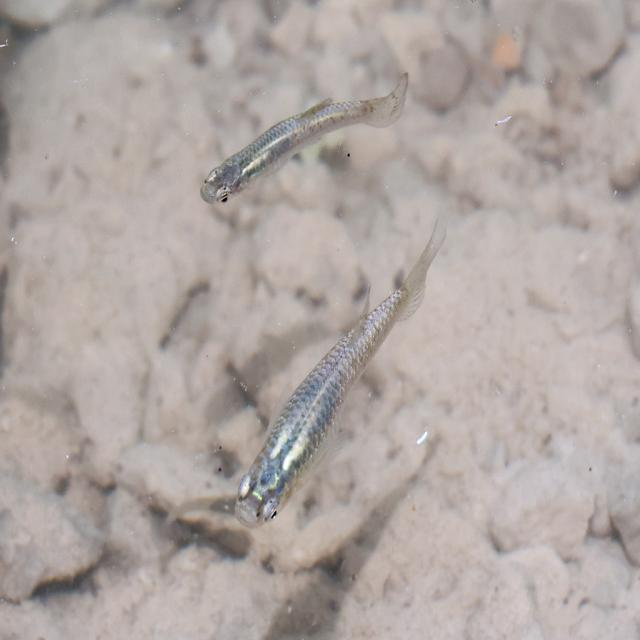Sivrisinek Baligi: (224, 212, 450, 535), (202, 78, 410, 207)
